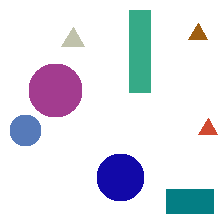circle: (29, 64, 81, 116), (97, 154, 143, 200), (10, 115, 40, 145)
rectangle: (129, 10, 150, 92), (166, 189, 213, 213)
triangle: (61, 27, 84, 46), (188, 23, 207, 39), (198, 118, 217, 134)
